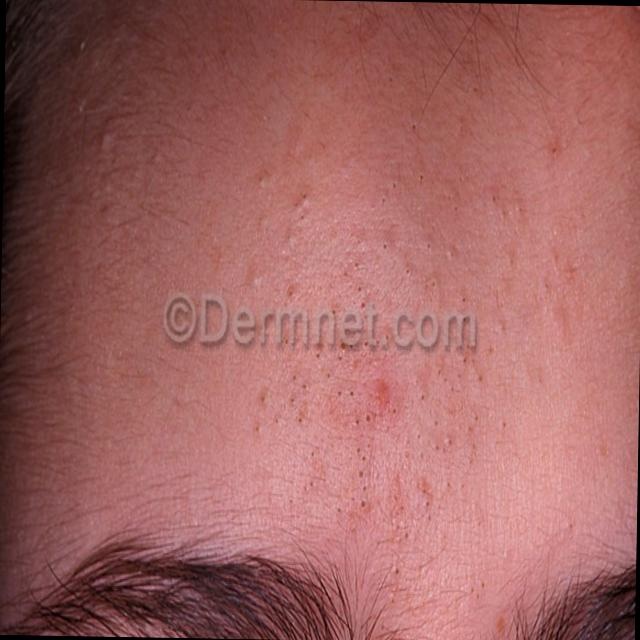blackhead: (393, 493, 404, 532), (300, 188, 310, 203), (391, 178, 399, 192), (282, 334, 290, 348), (499, 207, 506, 223), (292, 197, 300, 210), (256, 173, 264, 186), (298, 212, 306, 224), (286, 288, 294, 300), (508, 254, 514, 270), (402, 448, 410, 460), (359, 298, 366, 311), (359, 497, 366, 510), (364, 412, 372, 423), (342, 268, 349, 280), (260, 394, 267, 406), (352, 260, 360, 270), (418, 170, 424, 182), (500, 418, 506, 430), (552, 146, 558, 158), (356, 284, 363, 294), (411, 120, 416, 134), (469, 33, 474, 47), (420, 274, 427, 284), (330, 306, 336, 317), (380, 195, 386, 206), (314, 351, 320, 362), (340, 341, 346, 352), (458, 172, 464, 183), (466, 423, 472, 434), (517, 203, 522, 216), (382, 241, 388, 251), (290, 372, 296, 382), (302, 381, 308, 391), (296, 416, 302, 426), (363, 338, 369, 348), (336, 388, 342, 398), (348, 388, 354, 398), (405, 266, 411, 276), (472, 84, 478, 94), (461, 314, 466, 326), (487, 344, 492, 356), (480, 580, 486, 590), (418, 450, 424, 460), (303, 484, 309, 494), (543, 280, 548, 292), (416, 431, 421, 442), (358, 468, 363, 479), (472, 449, 478, 458), (426, 513, 432, 522), (379, 622, 385, 631), (326, 368, 330, 381), (384, 332, 389, 342), (453, 203, 458, 213), (428, 294, 433, 304), (470, 356, 475, 366), (477, 374, 482, 384), (436, 368, 441, 378), (366, 440, 371, 450), (351, 494, 356, 504), (254, 425, 260, 433), (492, 192, 496, 204), (460, 296, 466, 304), (450, 384, 454, 396), (432, 418, 438, 426), (355, 446, 361, 454), (360, 454, 366, 462), (568, 523, 574, 531), (447, 437, 452, 446), (425, 500, 430, 509), (499, 299, 504, 308), (426, 240, 430, 251), (388, 74, 392, 85), (455, 372, 461, 379), (356, 236, 360, 246), (274, 416, 278, 426), (289, 396, 294, 404), (338, 354, 342, 364), (430, 278, 434, 288), (450, 250, 454, 260), (442, 374, 447, 382), (474, 413, 478, 423), (472, 440, 476, 450), (355, 417, 359, 427), (420, 392, 424, 402), (415, 376, 420, 384), (386, 407, 391, 415), (435, 442, 439, 452), (441, 446, 446, 454), (421, 486, 426, 494), (404, 530, 408, 540), (394, 567, 399, 575), (362, 484, 366, 494), (500, 323, 504, 333), (462, 356, 466, 365), (494, 436, 498, 445), (392, 407, 396, 416), (468, 457, 472, 466), (446, 480, 450, 489), (476, 592, 480, 601), (349, 344, 354, 351), (448, 192, 452, 200), (390, 596, 394, 604), (470, 586, 474, 594), (336, 506, 340, 514), (289, 498, 293, 506), (376, 339, 380, 346), (466, 342, 470, 349), (310, 451, 314, 458), (309, 482, 313, 488), (405, 638, 410, 640)
